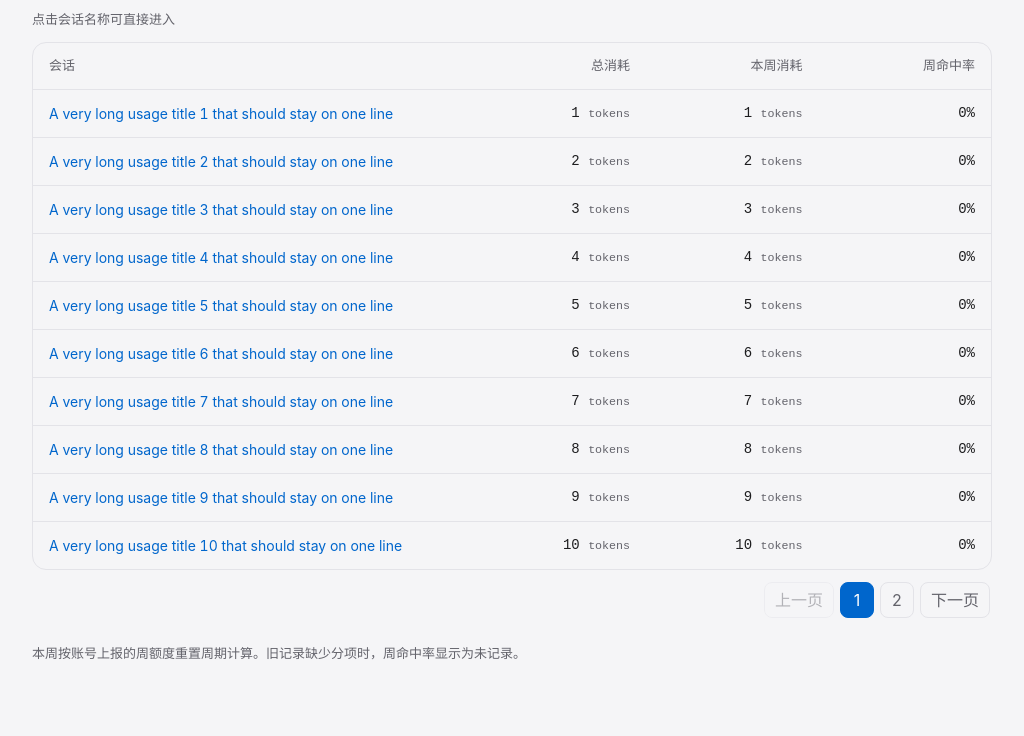
Scenario: limits usage tables to ten rows and paginates projects and sessions independently
(page scrolled)
expect the text "A very long usage title 11 that should stay on one line" is not shown: met
What coordinates should you click on to do the following:
click the button "下一页"
I would click on:
 (955, 600)
Its box is [920, 582, 990, 618].
(page scrolled)
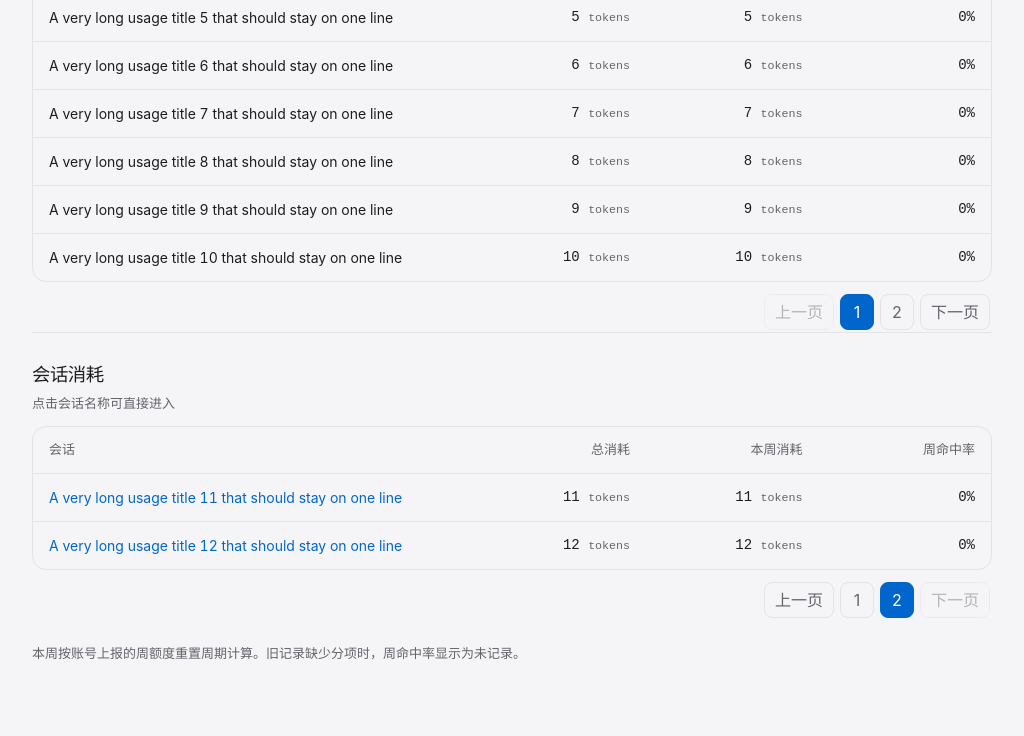
expect the button "A very long usage title 11 that should stay on one line" is shown: met, box [49, 486, 458, 508]
What coordinates should you click on to do the following:
click the button named "第 2 页"
I would click on:
 (897, 312)
Its box is [880, 294, 914, 330].
(page scrolled)
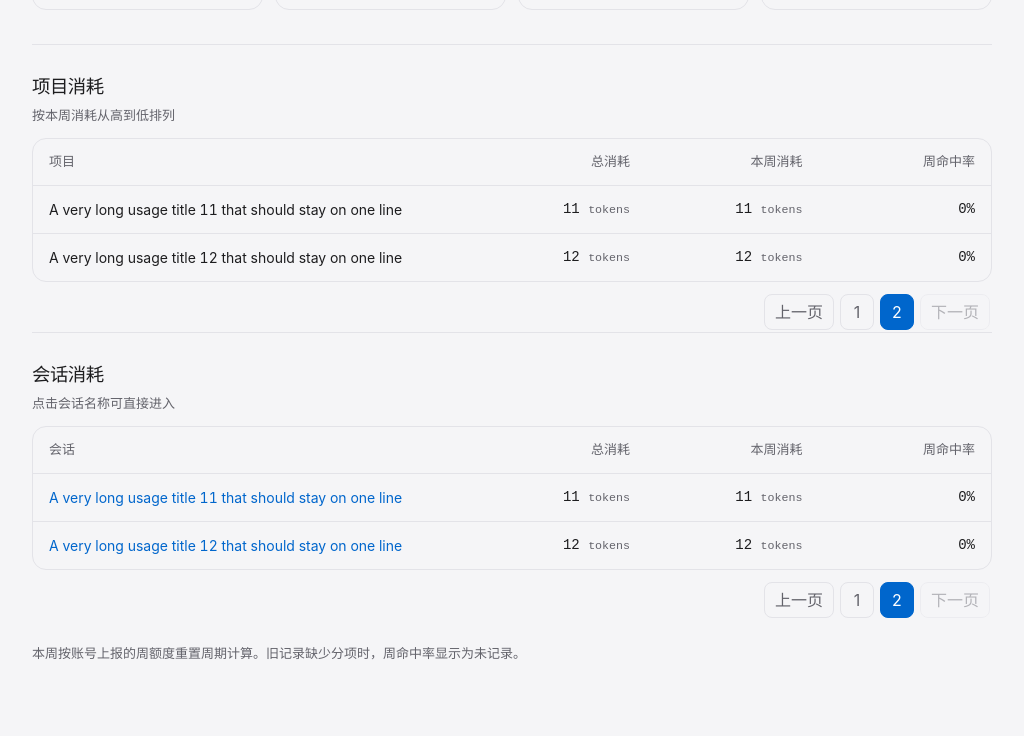
expect the text "A very long usage title 11 that should stay on one line" is shown 2 times: met, box [49, 199, 458, 220]; [49, 486, 458, 508]
